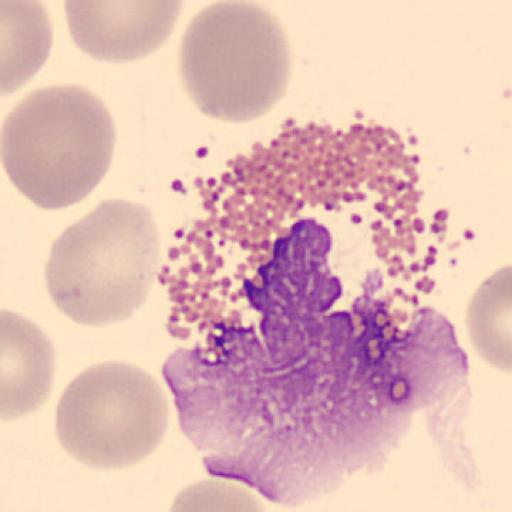RBC: (43, 196, 163, 330), (1, 82, 116, 213), (176, 0, 294, 127), (52, 358, 170, 472), (62, 0, 185, 65), (1, 308, 57, 422), (465, 260, 512, 374), (0, 0, 54, 99), (166, 476, 271, 512)
WBC: (164, 251, 432, 508), (186, 117, 440, 343), (166, 306, 398, 508)
